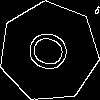O: (24, 26, 81, 79)
